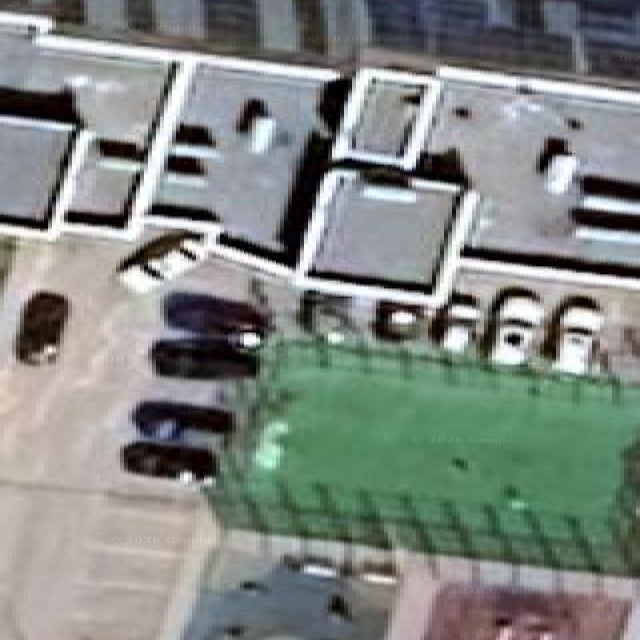car: (164, 292, 269, 348), (117, 232, 206, 292), (543, 295, 603, 374), (150, 338, 258, 378), (132, 401, 233, 441), (120, 441, 216, 483), (490, 289, 542, 365), (15, 291, 69, 364), (430, 292, 479, 354), (298, 291, 352, 343), (373, 301, 421, 341)
